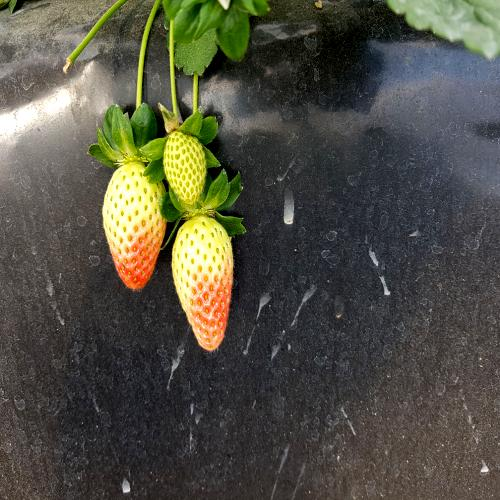partially-ripe: (164, 218, 243, 362), (97, 152, 167, 304)
